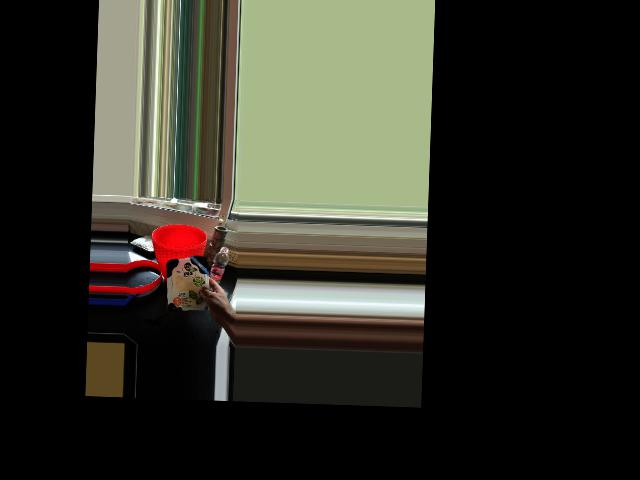cheese: (165, 254, 220, 307)
